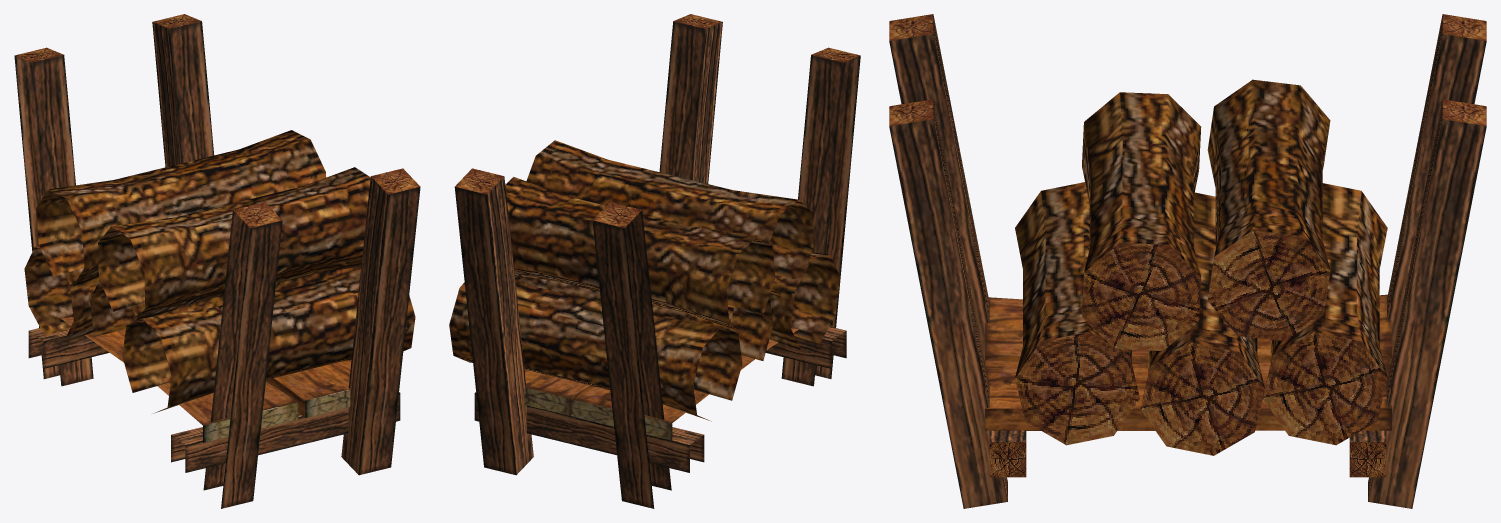
File: INST_LT_WOODPILE.fbx
The picture shows the model from 3 angles, left to right: view 1: azimuth 30°, elevation 25°; view 2: azimuth 150°, elevation 25°; view 3: azimuth 270°, elevation 25°; orthographic projection. The views are drawn at different scales.
Visible parts, largest first — view 1: INST_LT_WOODPILE; view 2: INST_LT_WOODPILE; view 3: INST_LT_WOODPILE.
Boxes of the visible parts, x1,y1,x2,y2 form: INST_LT_WOODPILE: [14, 14, 420, 508]; INST_LT_WOODPILE: [449, 14, 860, 508]; INST_LT_WOODPILE: [889, 14, 1486, 508].
Size of the model in its own units: 6072 by 6565 by 9121.
6 materials, 6 textured.
